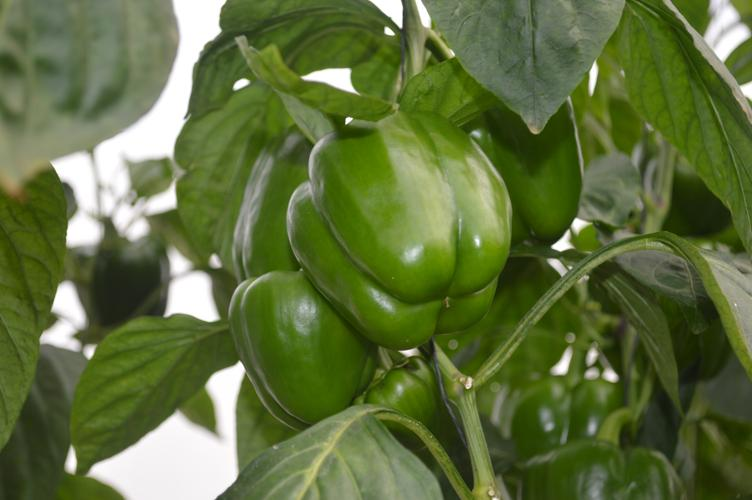BellPepper: (287, 110, 508, 346), (224, 273, 370, 432), (468, 80, 581, 251), (236, 124, 298, 275), (364, 358, 444, 447)
